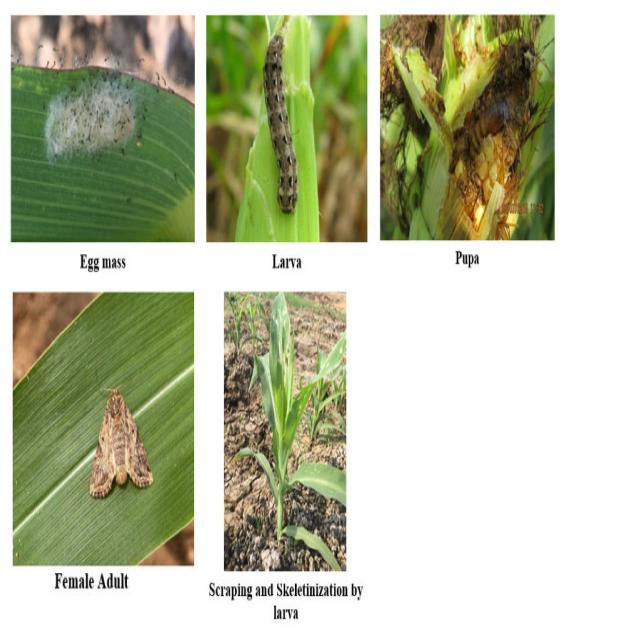cornborer-Larva-: (252, 29, 301, 218)
